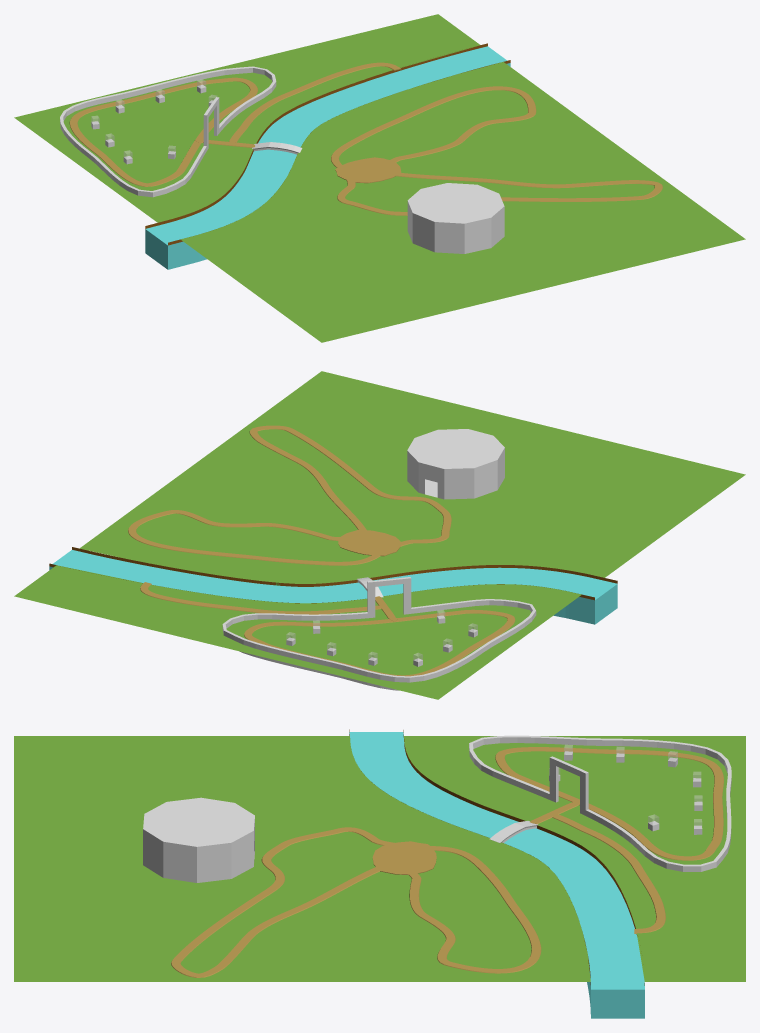
3 renders of one model, top to bottom at view 1: azimuth 30°, elevation 25°; view 2: azimuth 150°, elevation 25°; view 3: azimuth 270°, elevation 25°, orthographic. The views are drawn at different scales.
Parts seen in each view (by area): view 1: Ground, River, Cylinder, Path, Wall, Path 2, Path 3, Center, Skill Cubes; view 2: Ground, River, Cylinder, Wall, Path, Path 2, Path 3, Center, Skill Cubes; view 3: Ground, River, Cylinder, Path, Wall, Path 2, Center, Path 3, Skill Cubes, Plane.
Part boxes in pixels (x1,y1,x2,y2): Ground: [14, 14, 745, 342]; River: [145, 43, 510, 269]; Cylinder: [407, 183, 504, 253]; Path: [331, 86, 662, 215]; Wall: [60, 66, 276, 197]; Path 2: [69, 77, 257, 186]; Path 3: [195, 62, 401, 147]; Center: [335, 157, 401, 183]; Skill Cubes: [91, 79, 217, 164]; Ground: [14, 371, 745, 699]; River: [49, 547, 617, 624]; Cylinder: [407, 429, 504, 499]; Wall: [222, 577, 536, 690]; Path: [128, 425, 451, 565]; Path 2: [244, 609, 515, 676]; Path 3: [140, 582, 397, 621]; Center: [338, 529, 401, 556]; Skill Cubes: [286, 610, 477, 666]; Ground: [14, 736, 745, 981]; River: [349, 729, 644, 1018]; Cylinder: [143, 797, 254, 882]; Path: [171, 827, 541, 977]; Wall: [469, 735, 731, 871]; Path 2: [495, 747, 723, 860]; Center: [372, 841, 436, 874]; Path 3: [530, 800, 665, 933]; Skill Cubes: [549, 745, 702, 834]; Plane: [489, 821, 538, 842].
Size of what is drawn, in the model's own units: 10.47 by 1.42 by 12.56.
